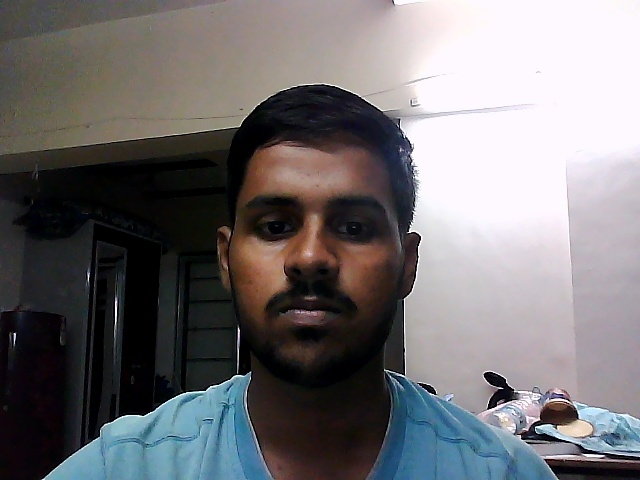awake: (191, 75, 458, 396)
